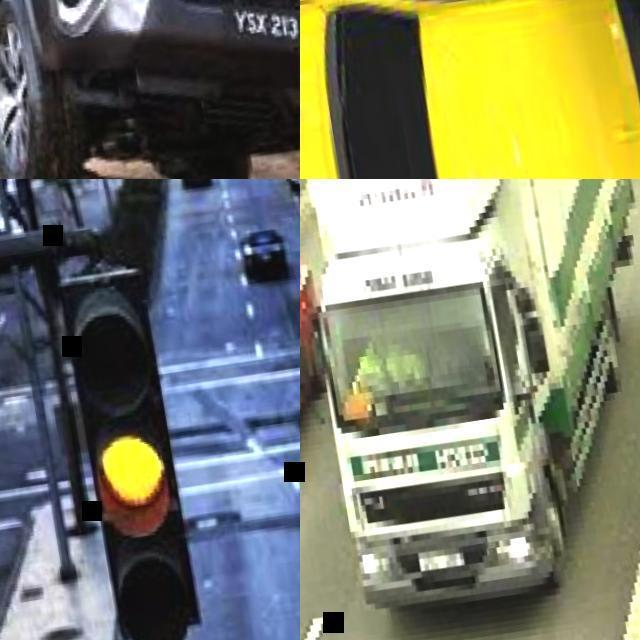car: (1, 0, 294, 161), (242, 227, 287, 277)
